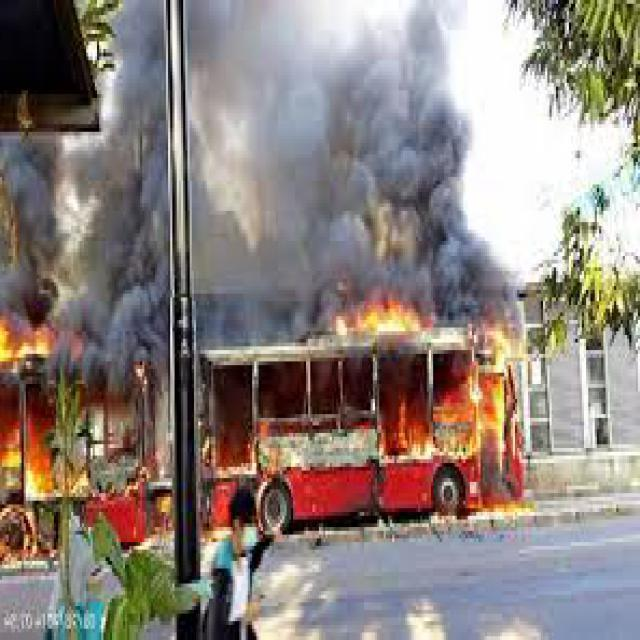Fire: (350, 303, 532, 510), (0, 315, 85, 502)
Smoke: (0, 11, 573, 452)
